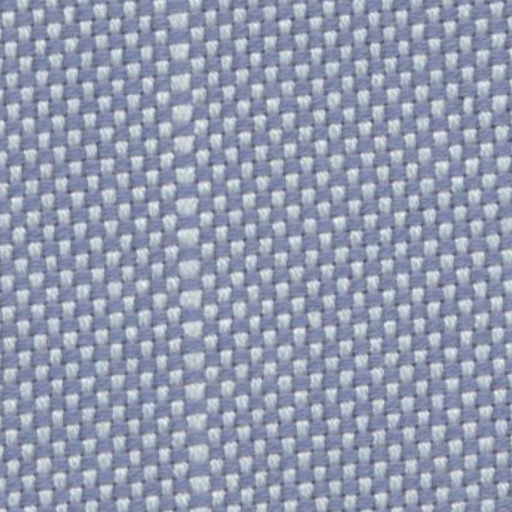TuoSha: (142, 15, 237, 498)
